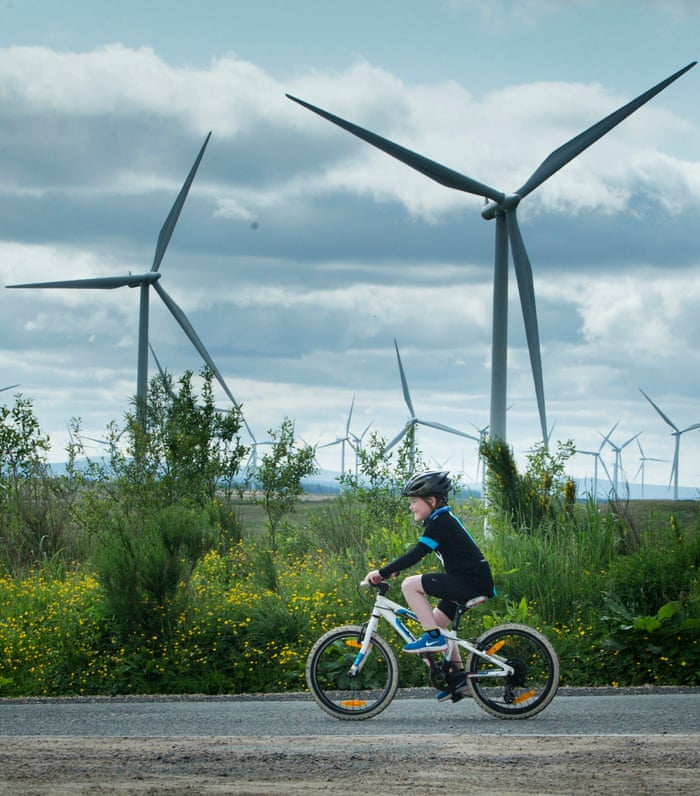helmet: (403, 470, 452, 521)
